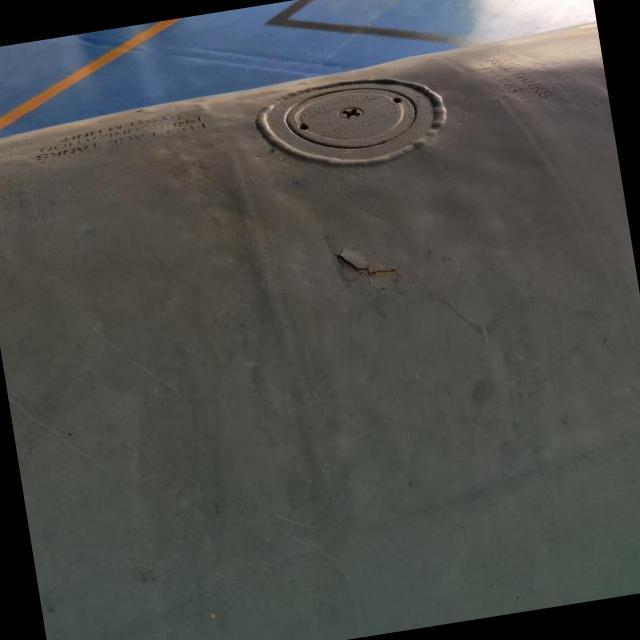Rupture: (324, 233, 414, 310)
